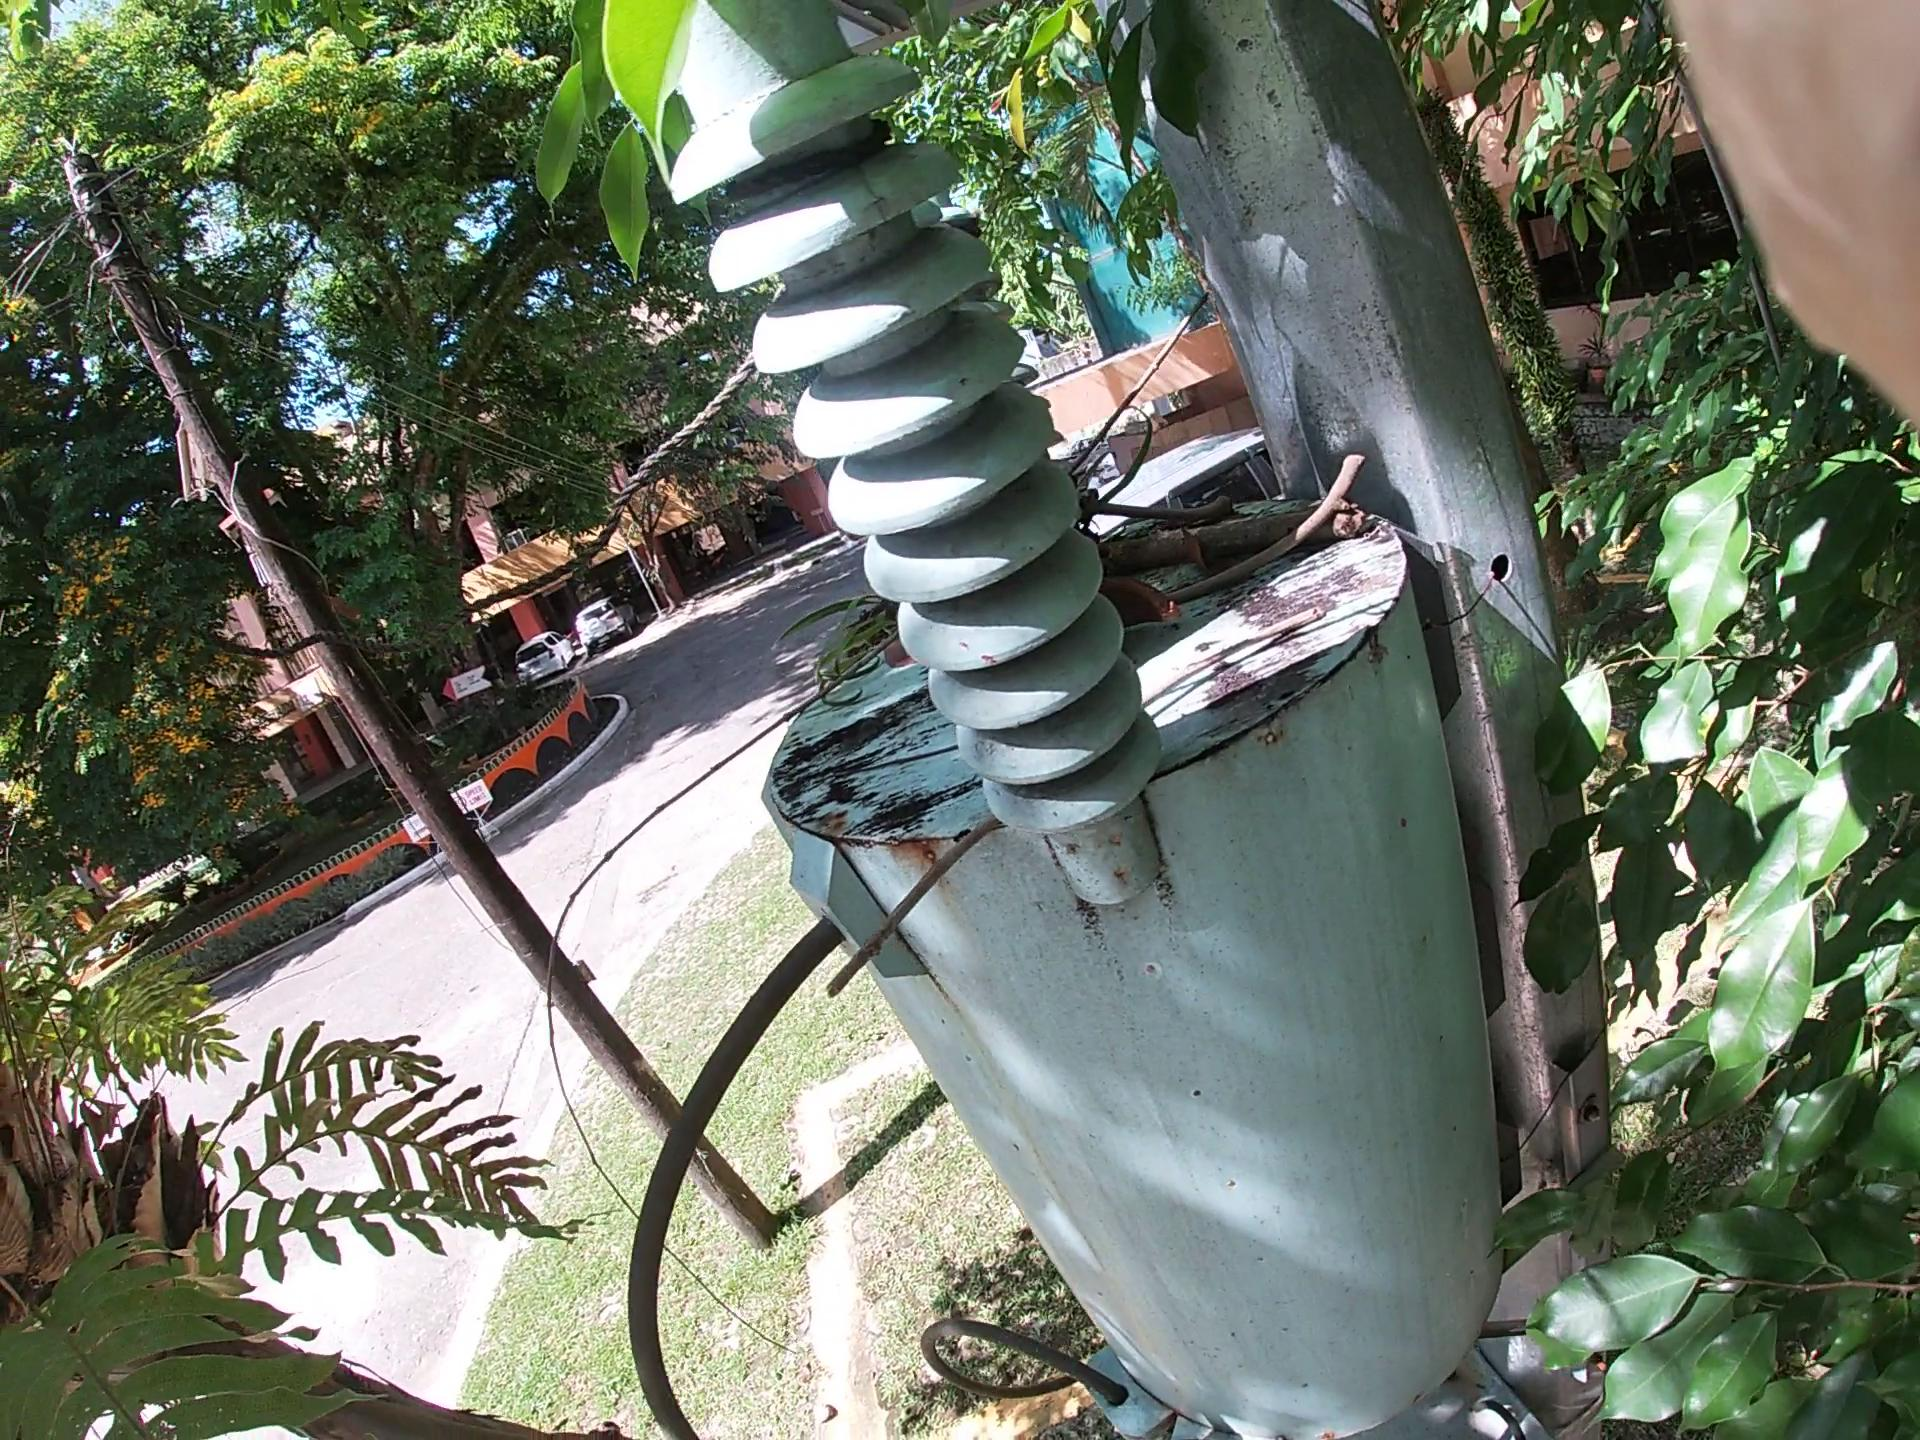branch with leaves: (770, 411, 1223, 737)
leaf: (1143, 492, 1241, 607)
mahogany fruit: (1063, 545, 1203, 650)
tree branch: (499, 584, 934, 1134), (1090, 442, 1568, 655), (844, 796, 1045, 1060), (986, 466, 1261, 566)
